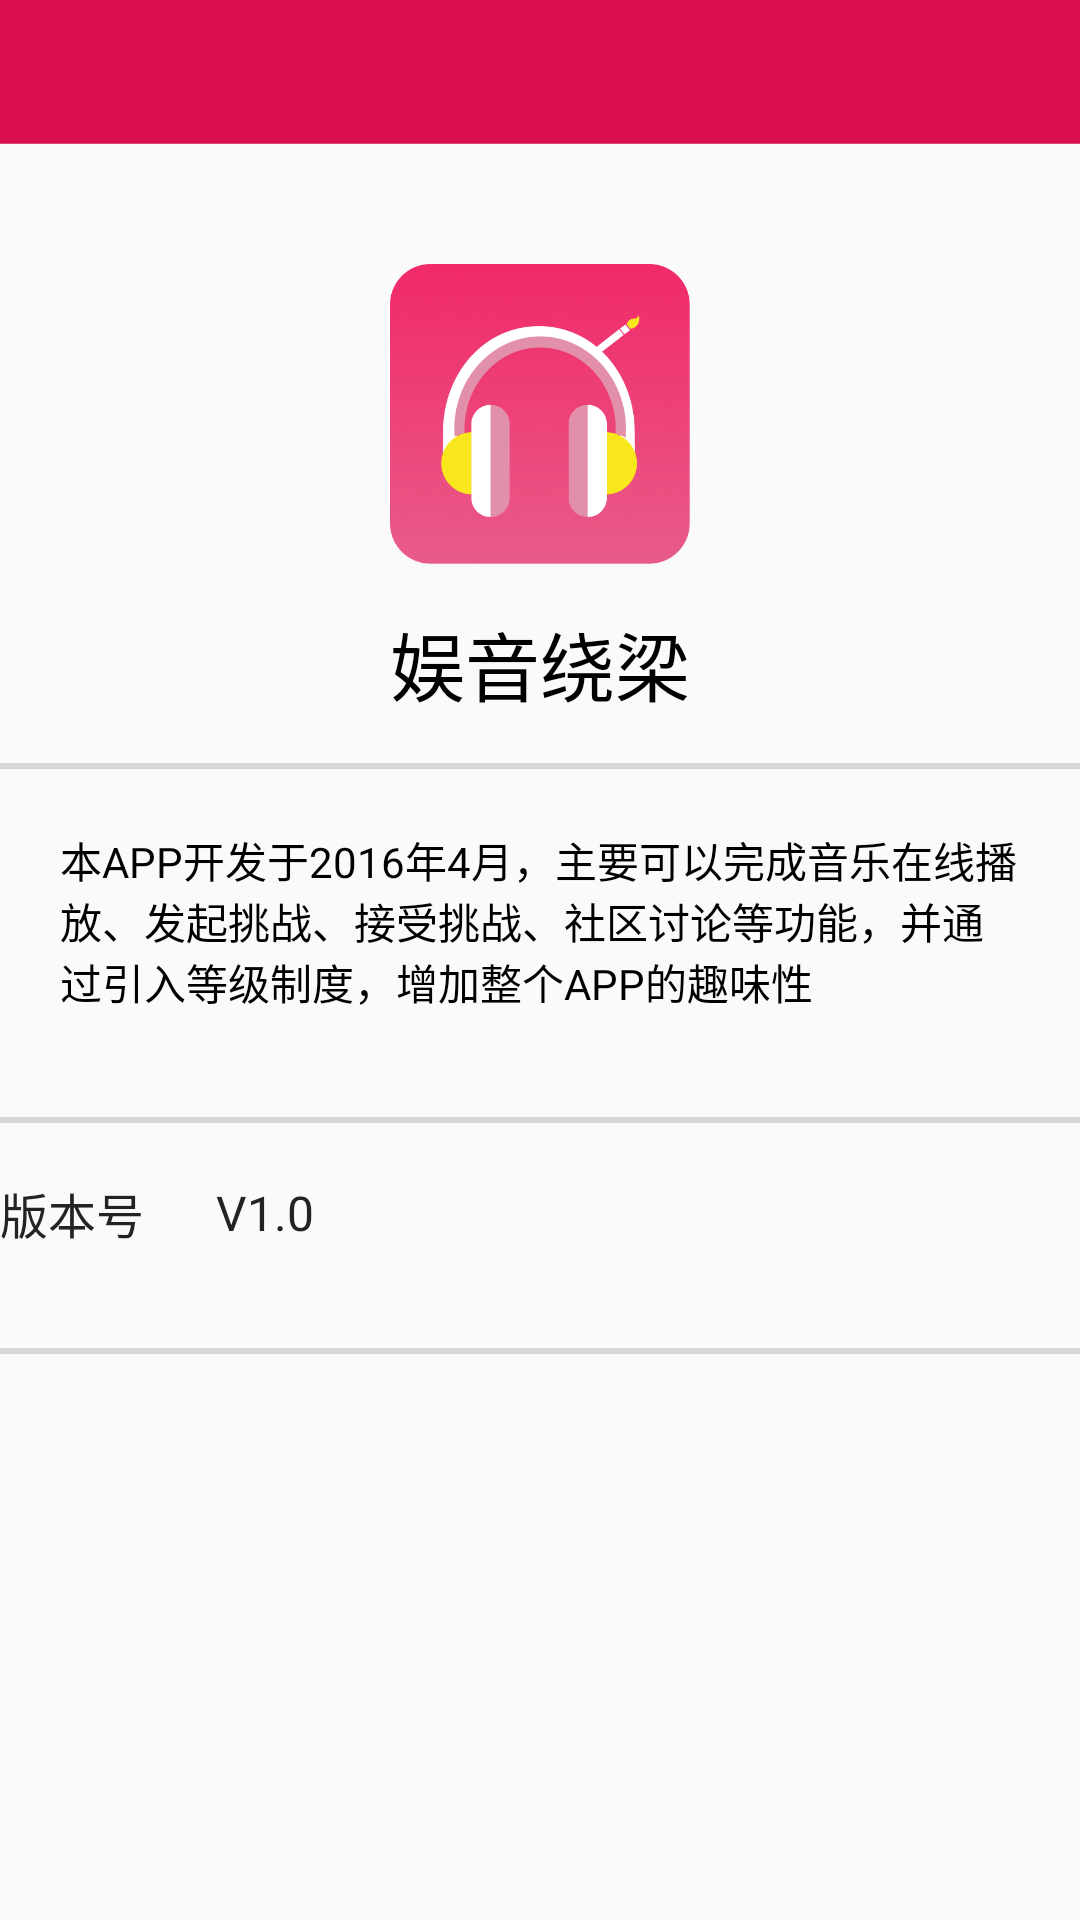

Named icons in this screenshot (1080x1920) and their bounding boxes, (x1, y1, x2, y2):
appicon: (390, 264, 690, 564)
